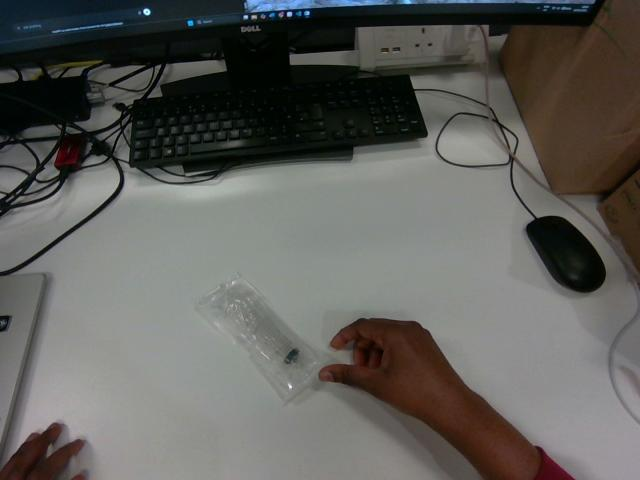syringe: (196, 275, 327, 402)
